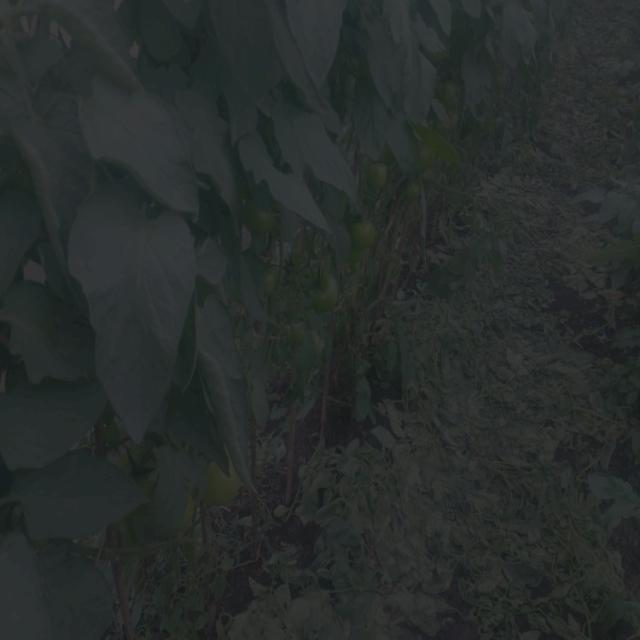tomato: (204, 466, 245, 502), (348, 210, 381, 254), (308, 268, 345, 306), (127, 447, 160, 485), (247, 201, 280, 229), (365, 152, 391, 182), (259, 254, 279, 293), (440, 72, 459, 108), (406, 176, 429, 204)
